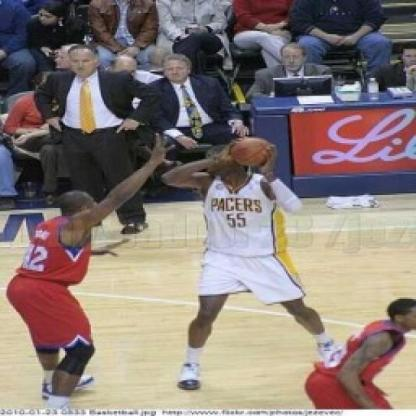basketball: (226, 133, 274, 171)
